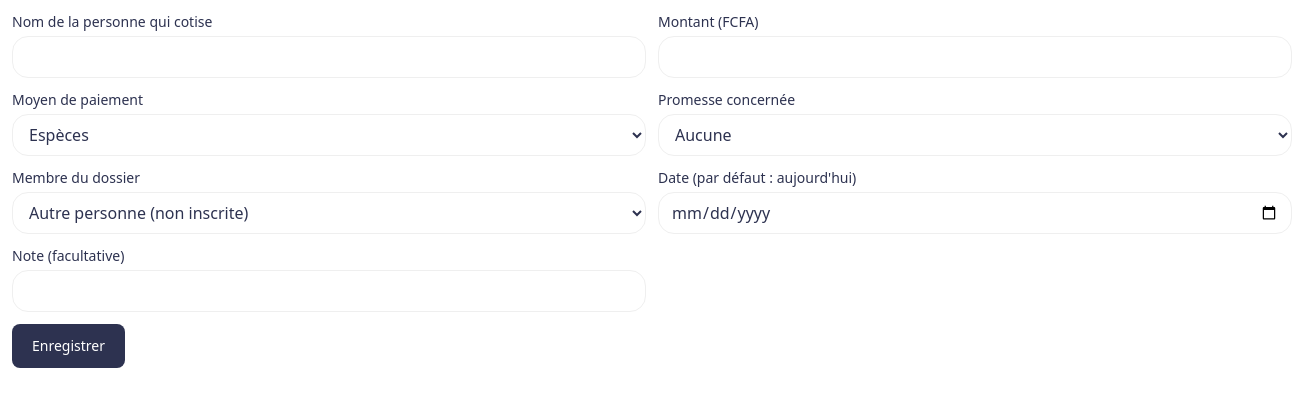
EntryForm › ties a receipt to the pledge member and suggests the pledge name and rest
The width and height of the screenshot is (1304, 409).
Select "Membre sans nom affiché" in the dropdown labelled "Membre du dossier" at [329, 213], box [12,192,646,234]
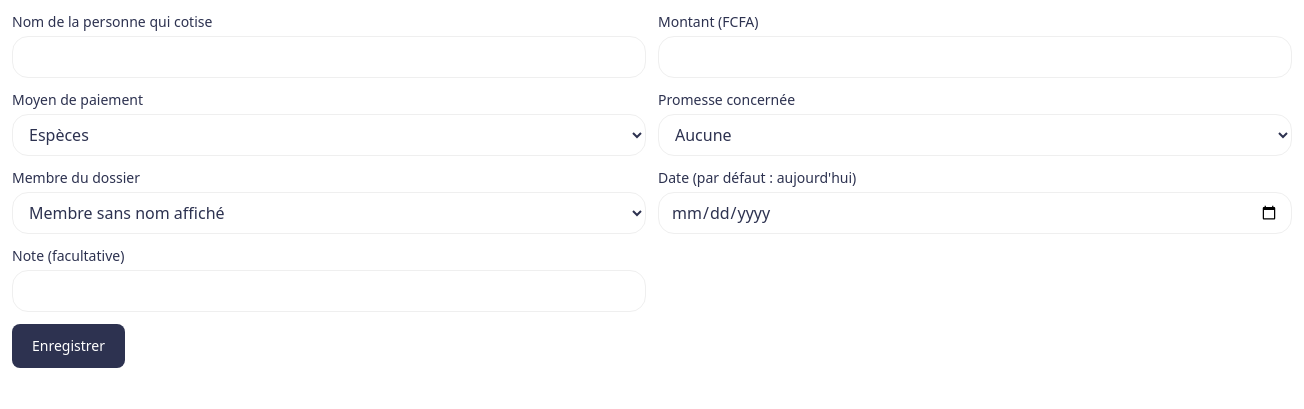
Select "Awa Diallo · 30 000 FCFA" in the dropdown labelled "Promesse concernée" at [975, 135], box [658,114,1292,156]
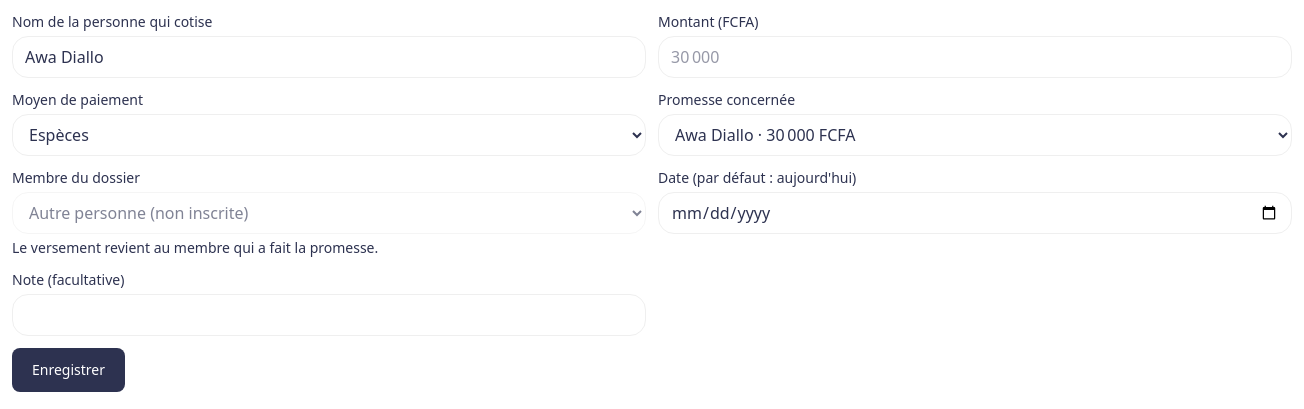
Check: the dropdown labelled "Membre du dossier" is disabled, box [12,192,646,234]
Check: the text "Le versement revient au membre qui a fait la promesse." is shown, box [12,238,378,257]
Check: the field labelled "Nom de la personne qui cotise" holds "Awa Diallo", box [12,36,646,78]
Select "Aucune" in the dropdown labelled "Promesse concernée" at [975, 135], box [658,114,1292,156]
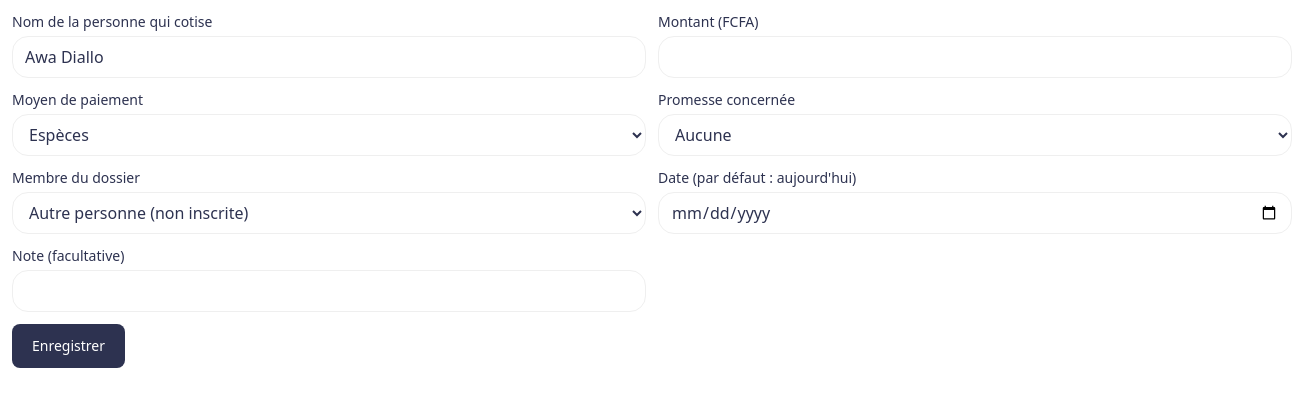
Check: the dropdown labelled "Membre du dossier" is enabled, box [12,192,646,234]
